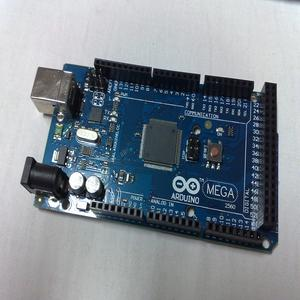duino: (15, 40, 278, 257)
